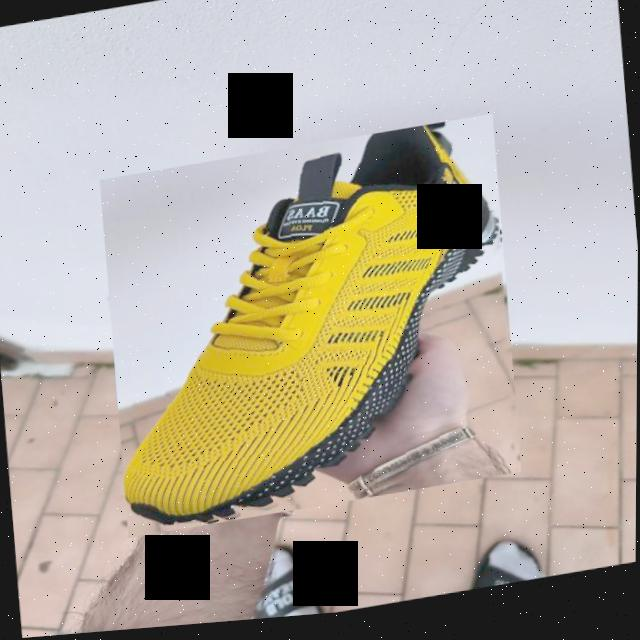shoe: (97, 120, 524, 542)
